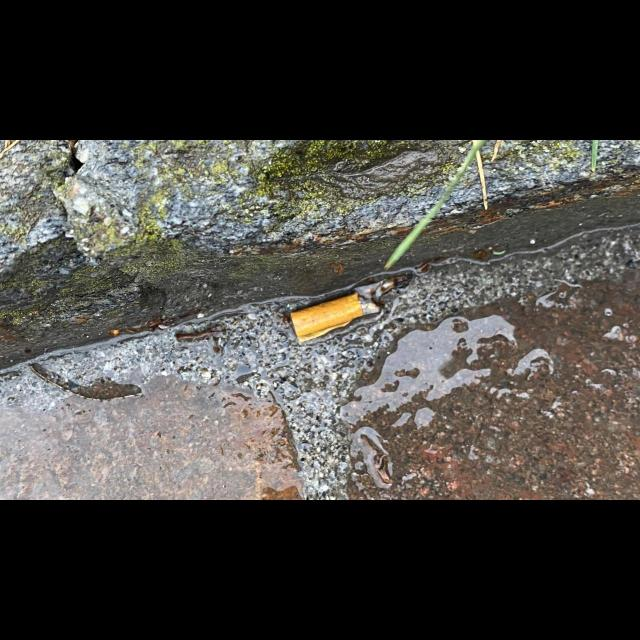cigarette: (288, 274, 414, 342)
